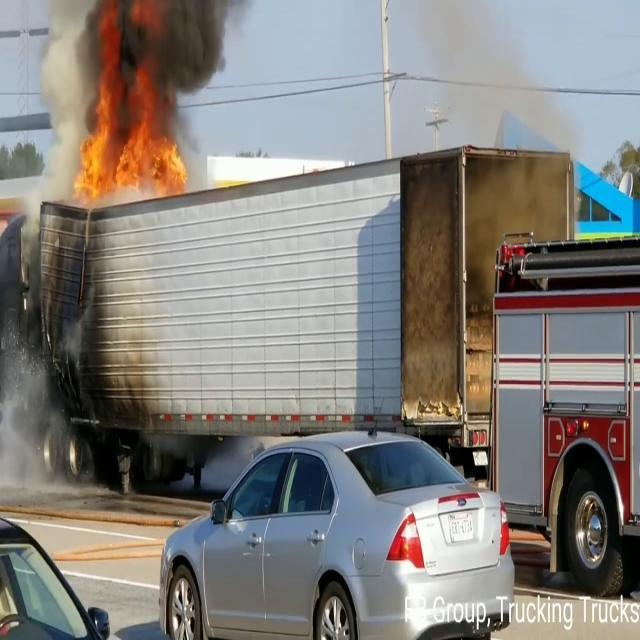Fire: (72, 16, 192, 206)
Smoke: (416, 2, 594, 250), (0, 326, 72, 508)
